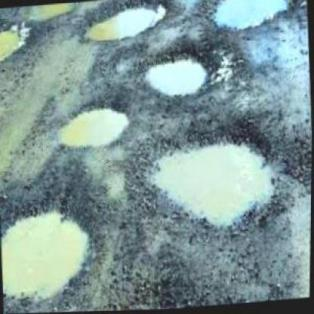Hueco: (135, 116, 287, 245), (138, 43, 216, 103), (51, 95, 132, 152)
